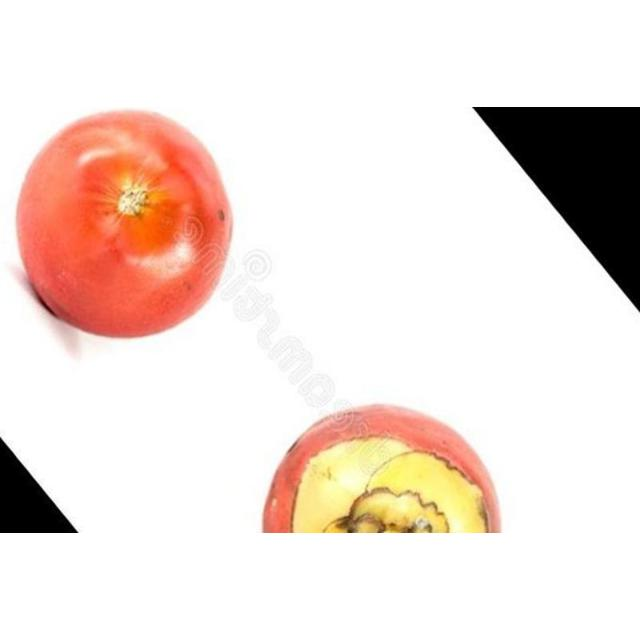good: (14, 110, 234, 341), (262, 405, 502, 533)
